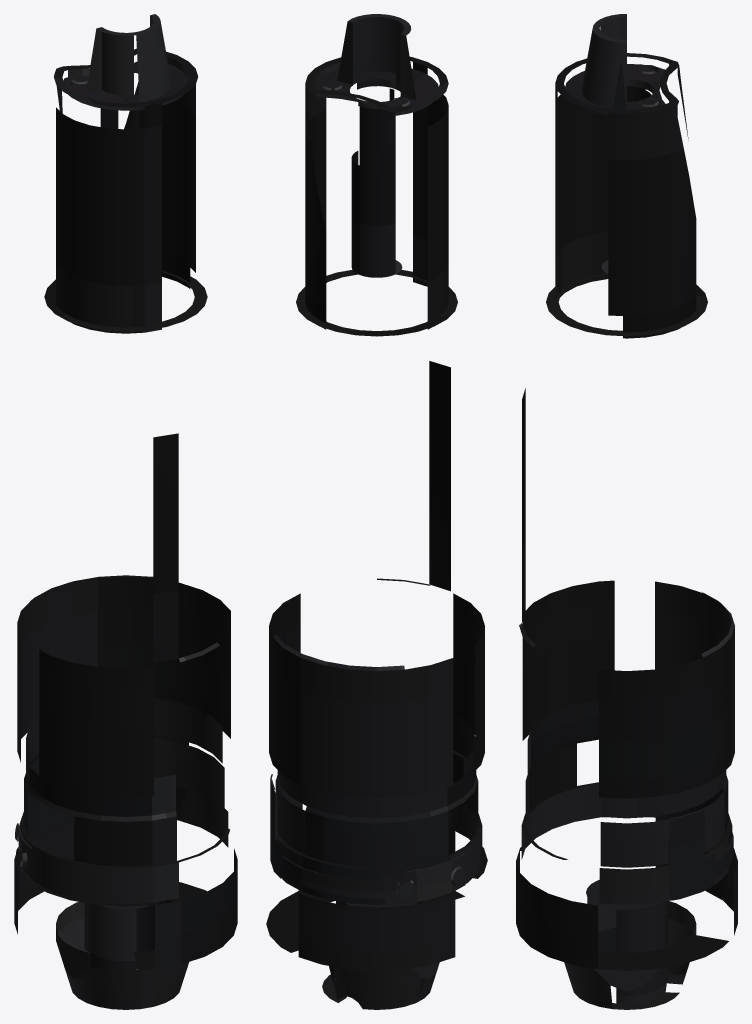
The model's file is Suppressor_Rifle308.fbx.
3 renders of one model, left to right at view 1: azimuth 30°, elevation 25°; view 2: azimuth 150°, elevation 25°; view 3: azimuth 270°, elevation 25°, orthographic.
Parts seen in each view (by area): view 1: asset_Suppressor_Rifle308.001; view 2: asset_Suppressor_Rifle308.001; view 3: asset_Suppressor_Rifle308.001.
Part boxes in pixels (left/top/right/bottom): asset_Suppressor_Rifle308.001: left=14, top=14, right=237, bottom=1009; asset_Suppressor_Rifle308.001: left=266, top=14, right=487, bottom=1009; asset_Suppressor_Rifle308.001: left=516, top=14, right=737, bottom=1009.
Size of the model in its own units: 0.0252 by 0.12 by 0.0252.
